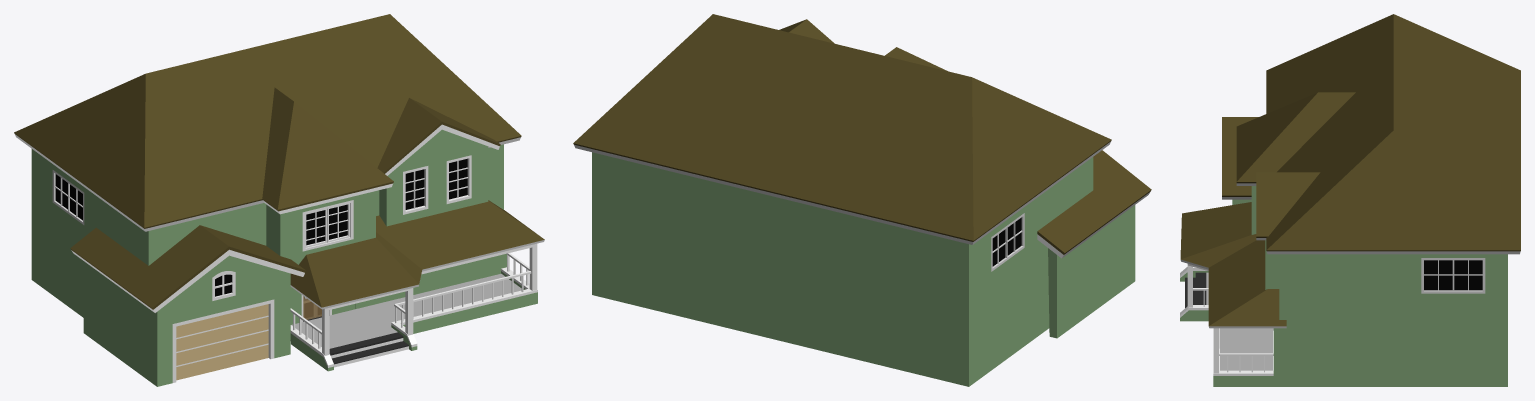
Rendered from House-32-b.fbx.
3 views of the same model, side by side, from view 1: azimuth 30°, elevation 25°; view 2: azimuth 150°, elevation 25°; view 3: azimuth 270°, elevation 25° (orthographic). The views are drawn at different scales.
Parts seen in each view (by area): view 1: House-20-f; view 2: House-20-f; view 3: House-20-f.
Part boxes in pixels (x1,y1,x2,y2): House-20-f: (14,14,544,386); House-20-f: (573,14,1151,386); House-20-f: (1180,14,1520,386).
Size of what is drawn, in the model's own units: 19.64 by 11.27 by 15.14.
